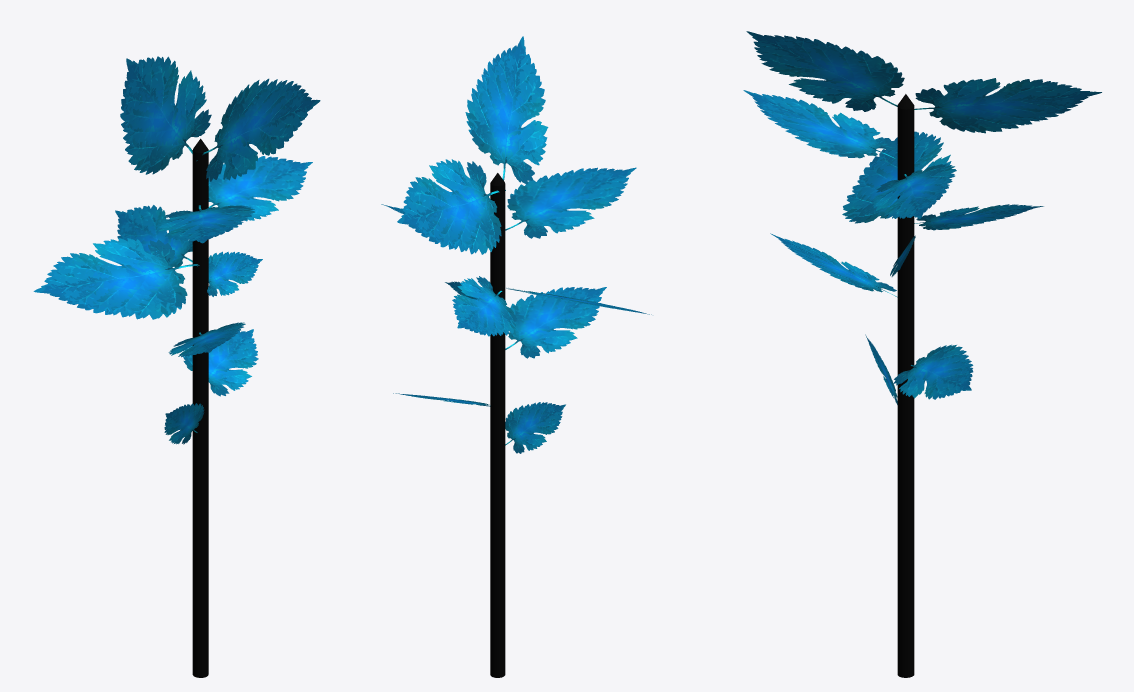
The model's file is bluetree15.fbx.
3 views of the same model, side by side, from view 1: azimuth 30°, elevation 25°; view 2: azimuth 150°, elevation 25°; view 3: azimuth 270°, elevation 25° (orthographic). The views are drawn at different scales.
Visible parts, largest first — view 1: purpletrees:pCylinder66; view 2: purpletrees:pCylinder66; view 3: purpletrees:pCylinder66.
Boxes of the visible parts, x1,y1,x2,y2 form: purpletrees:pCylinder66: [33, 56, 320, 677]; purpletrees:pCylinder66: [381, 36, 651, 677]; purpletrees:pCylinder66: [743, 31, 1101, 677].
Size of the model in its own units: 18.66 by 38.94 by 20.82.
